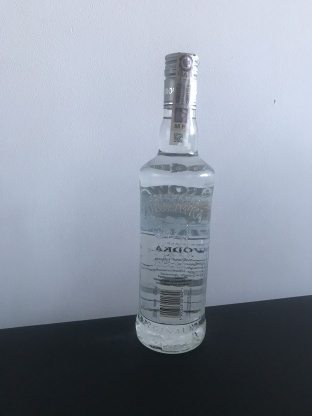nakretka: (162, 50, 200, 111)
